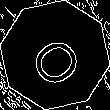O_NE: (22, 23, 88, 87)
